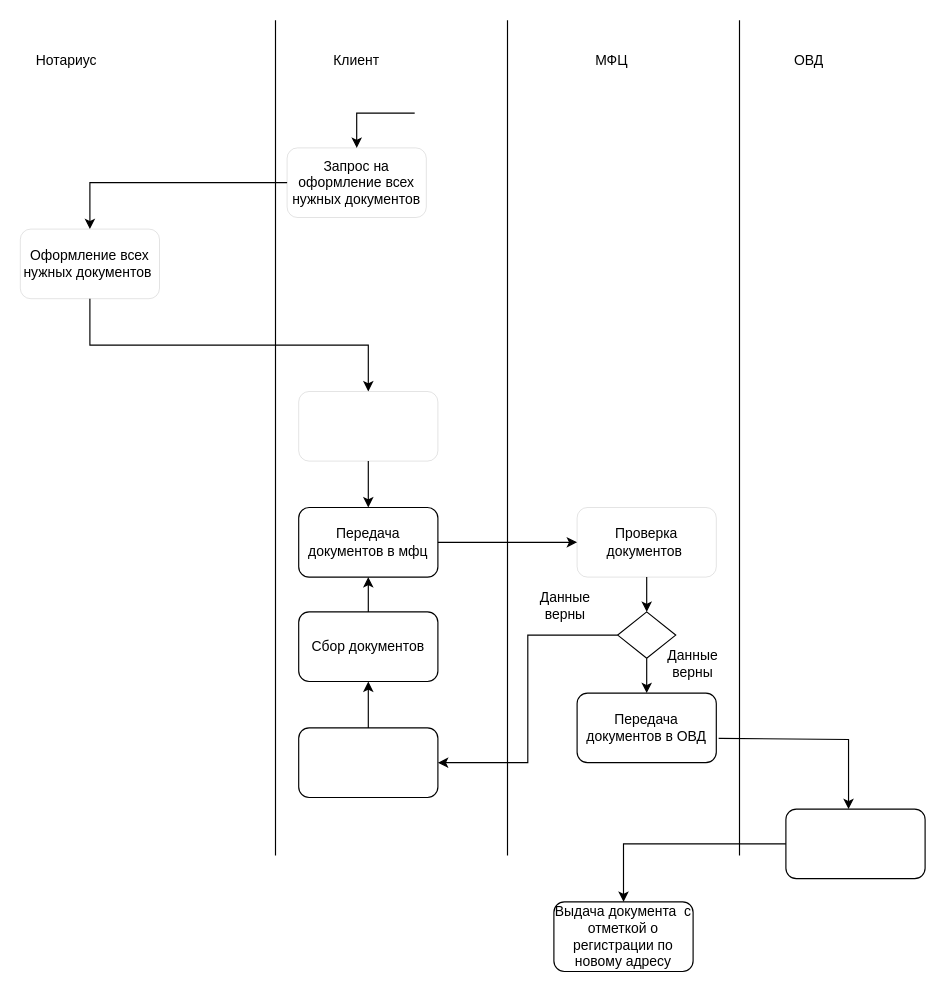
Some shapes in this 945 by 992 pixel diagram are drawn without their labels. The shapes that lost their labels are listed below. From the top down, each one's centre as x and y in pixels, then its label:
At [367,426]: "Подготовка всех нужных документов(сбор)".
At [368,762]: "Перепроверка всех документов".
At [855,843]: "Оформление регистрации по новому адресу".
